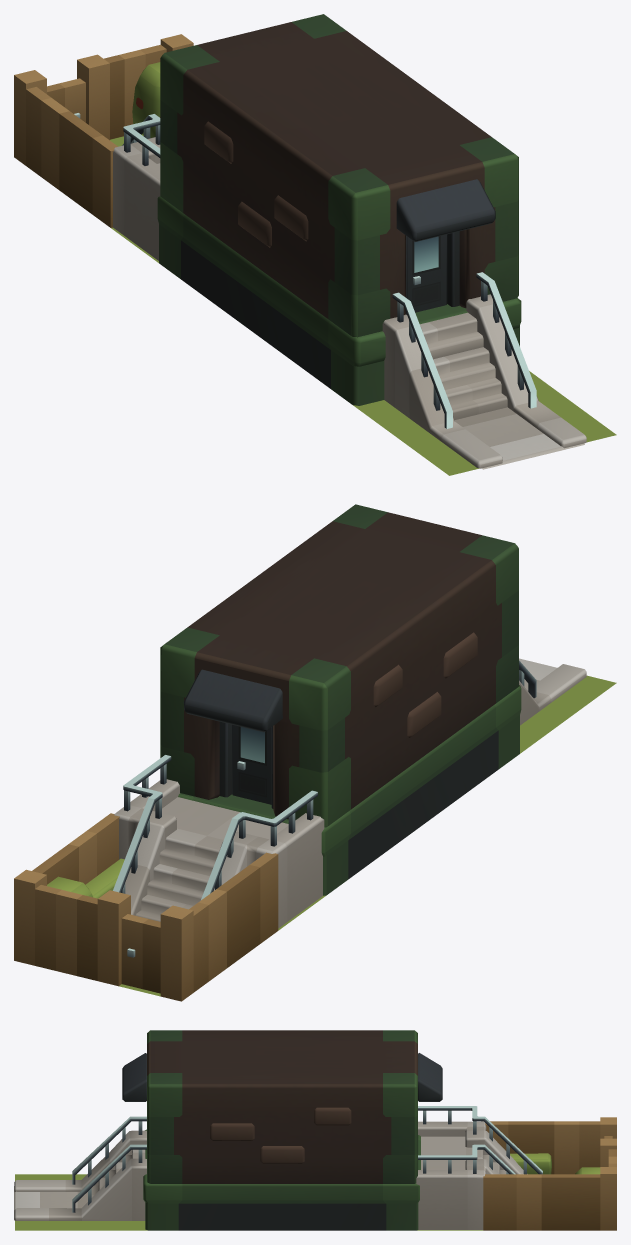
Rendered from appartment_type1_x2_ground_brown.fbx.
The picture shows the model from 3 angles, top to bottom: view 1: azimuth 30°, elevation 25°; view 2: azimuth 150°, elevation 25°; view 3: azimuth 270°, elevation 25°; orthographic projection. The views are drawn at different scales.
Visible parts, largest first — view 1: appartment_type1_x2_ground_brown, door_front_appartment_type1_x2_ground, door_garden_appartment_type1_x2_ground; view 2: appartment_type1_x2_ground_brown, door_back_appartment_type1_x2_ground, door_garden_appartment_type1_x2_ground; view 3: appartment_type1_x2_ground_brown.
Boxes of the visible parts, x1,y1,x2,y2 form: appartment_type1_x2_ground_brown: [14, 14, 616, 475]; door_front_appartment_type1_x2_ground: [407, 234, 447, 312]; door_garden_appartment_type1_x2_ground: [47, 78, 85, 122]; appartment_type1_x2_ground_brown: [14, 504, 616, 1001]; door_back_appartment_type1_x2_ground: [232, 724, 271, 804]; door_garden_appartment_type1_x2_ground: [121, 914, 160, 993]; appartment_type1_x2_ground_brown: [14, 1030, 616, 1230].
Size of the model in its own units: 419 by 487 by 1803.
